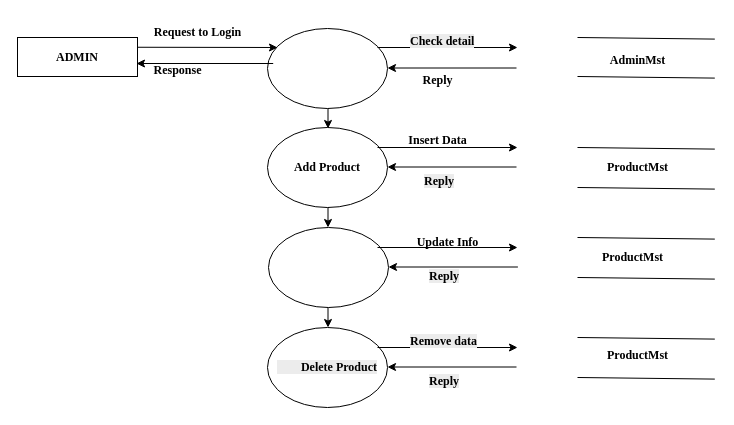
Image size: 734x425. Some labels were removed from this diagram. The centre of each missing label's shape, as x and y in pixels:
Change Price / Qty: point (328, 267)
Login: point (327, 68)
